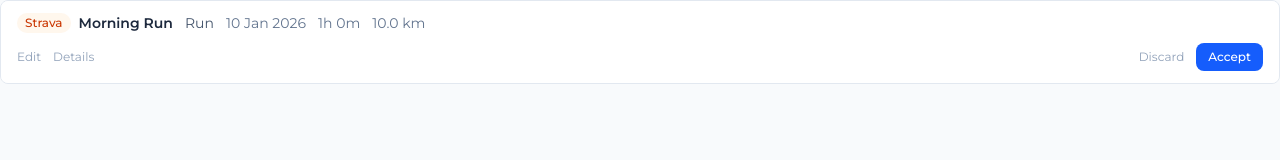
Test: ImportRow › cancels discard when cancel is clicked
Click the button "Discard": (1161, 57) [1139,49,1184,65]
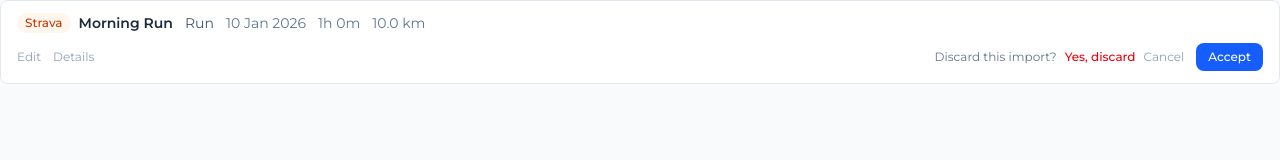
Result: the text "Discard this import?" is shown at [935,49,1057,65]
Click the button "Cancel": (1164, 57) [1144,49,1184,65]
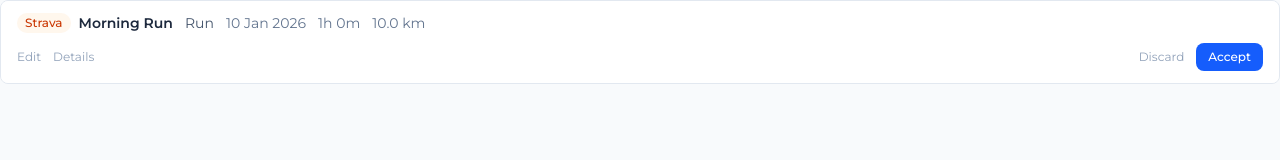
Result: the text "Discard this import" is gone
